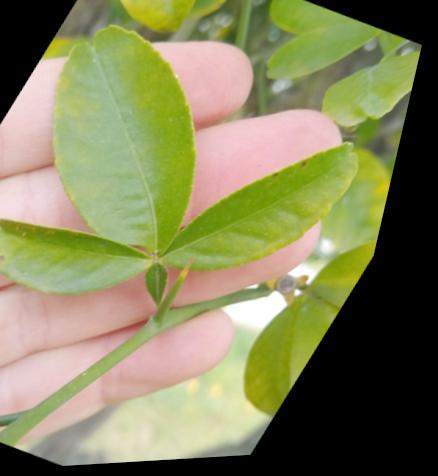Healthy Citrus: (0, 9, 288, 269), (165, 103, 381, 307), (0, 182, 191, 333), (242, 0, 399, 106)
